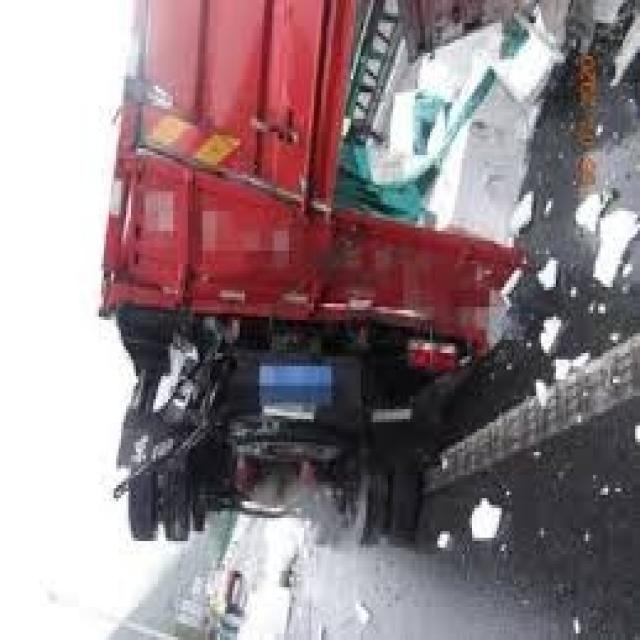accident: (98, 0, 522, 536)
